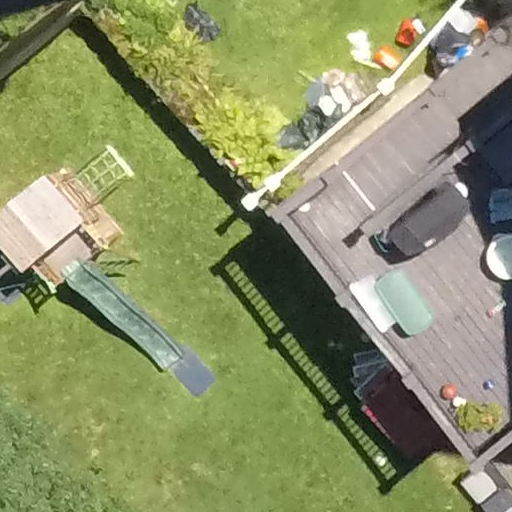bucket: (368, 35, 408, 69), (389, 15, 427, 42)
container: (370, 263, 434, 342), (344, 269, 393, 337)
